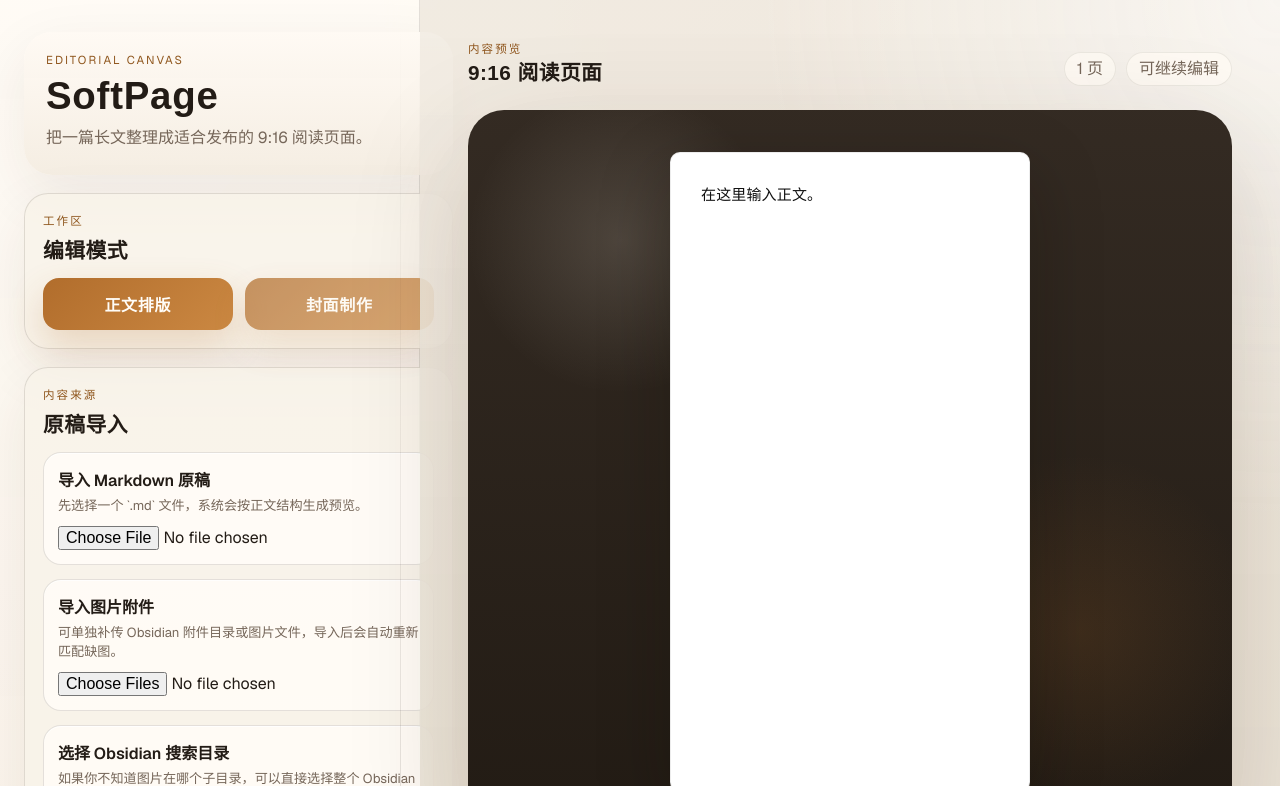
updates cover title font size from slider input
The image size is (1280, 786).
Click the button "封面制作" at {"x": 339, "y": 304}, box [244,278,434,330]
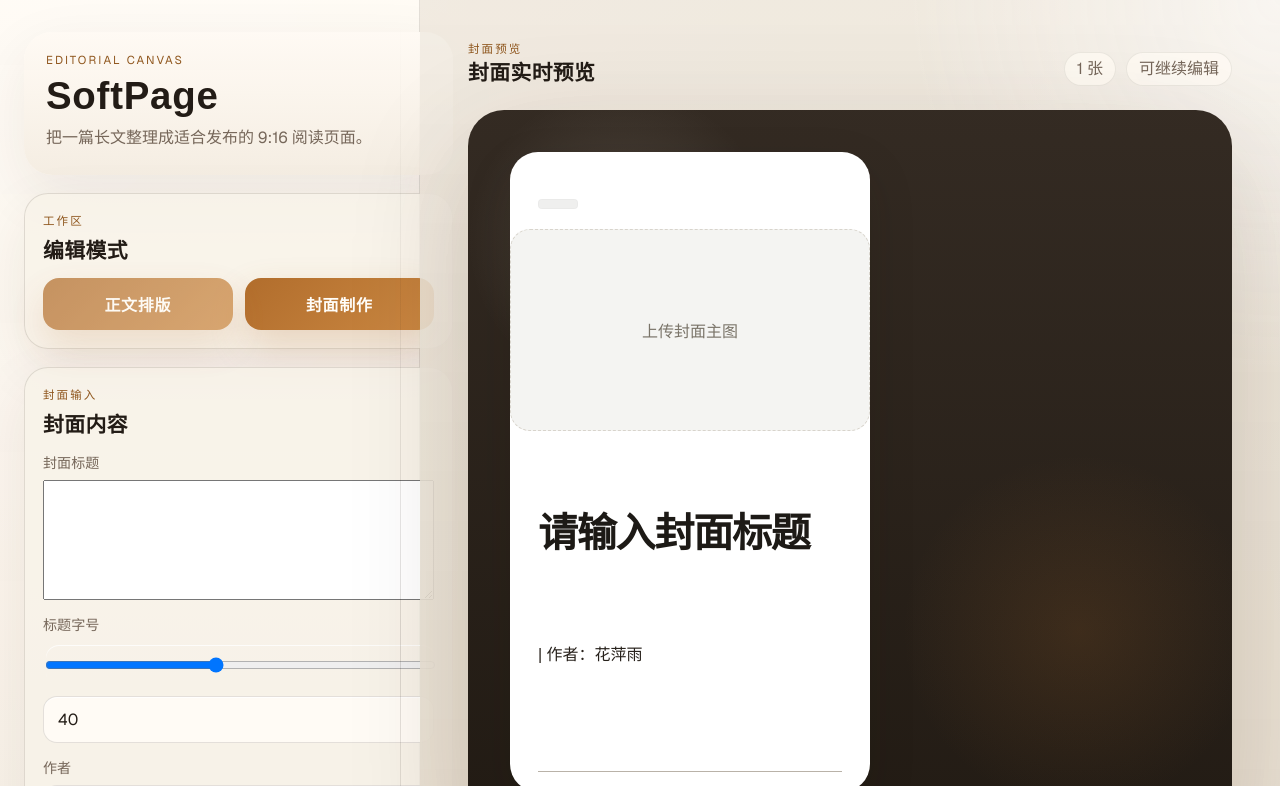
Set the slider labelled "标题字号" to "32" at {"x": 107, "y": 665}, box [45,644,436,686]
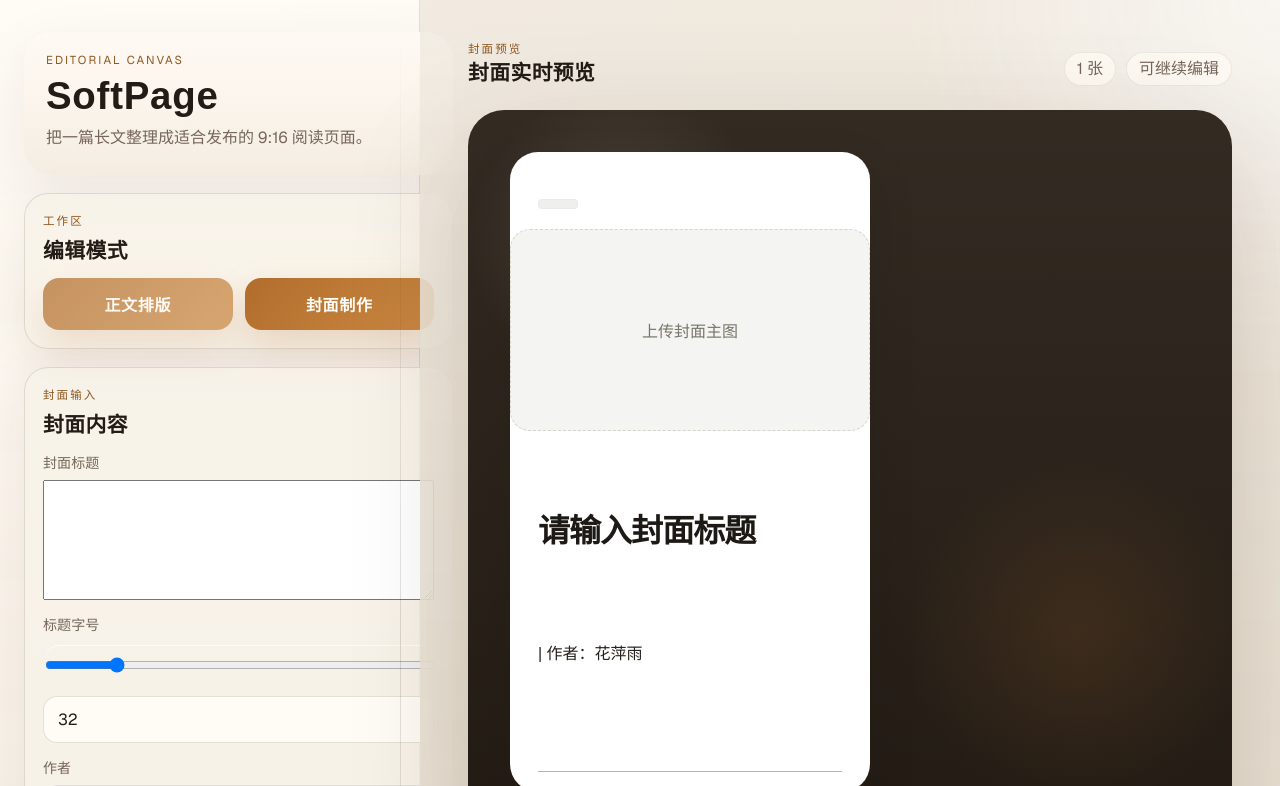
Expected: the heading "请输入封面标题" is shown, [538,513,755,549]
Expected: the number field named "标题字号数值" holds "32", [43,696,434,743]
